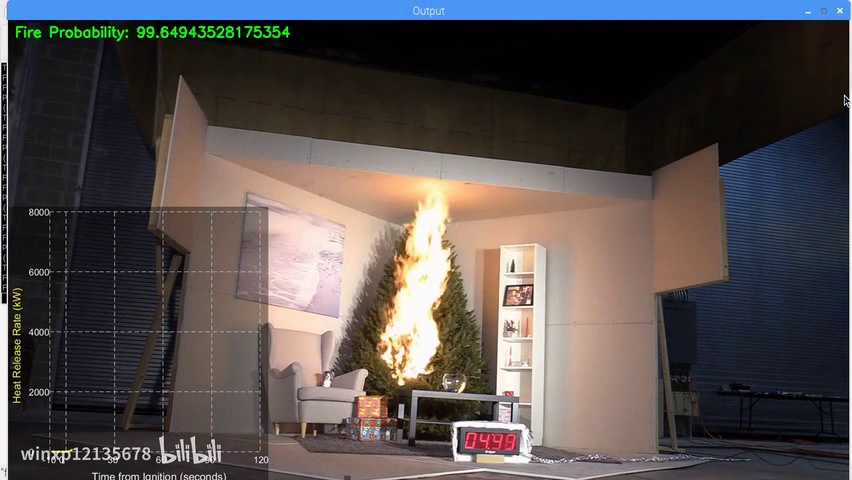fire: (381, 179, 453, 381)
